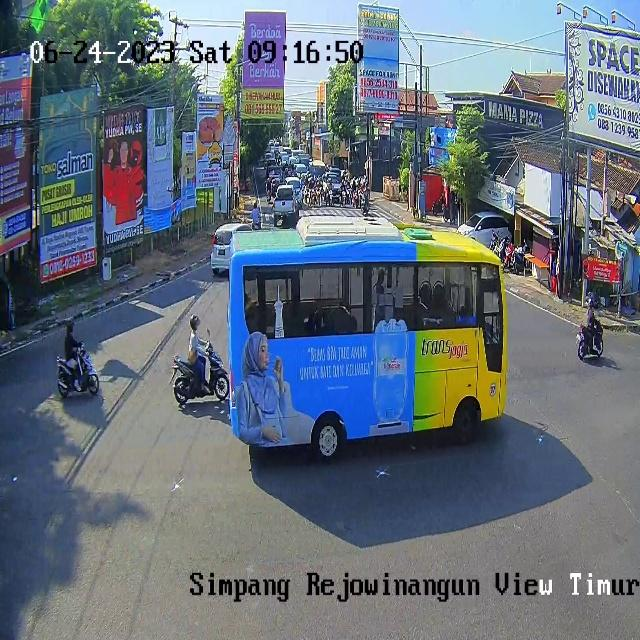bus: (172, 341, 229, 404), (57, 341, 100, 397), (576, 317, 604, 358), (361, 191, 369, 214), (341, 186, 348, 206), (326, 187, 334, 204), (310, 186, 317, 205), (352, 188, 359, 206), (304, 188, 310, 207), (266, 190, 272, 202)
car: (230, 216, 508, 461)
motorcycle: (211, 223, 253, 270), (457, 212, 511, 248), (273, 184, 295, 216), (322, 172, 344, 198), (286, 177, 302, 201)
